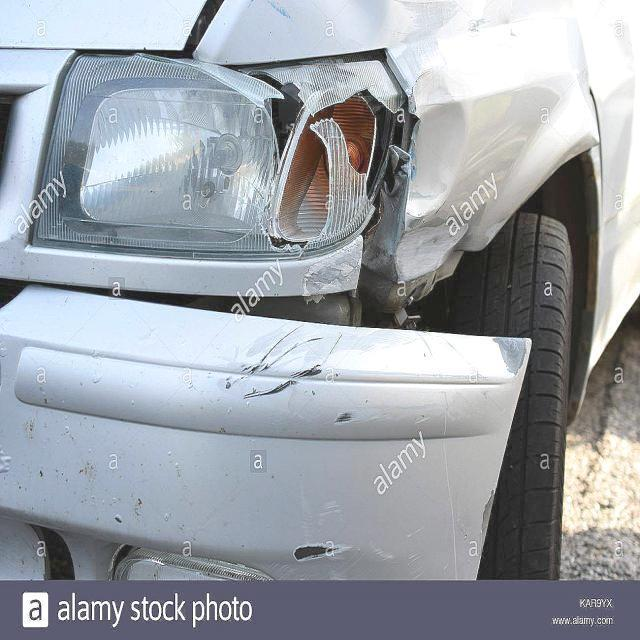minor: (389, 0, 635, 304), (290, 235, 363, 301)
moderate: (30, 55, 409, 264)
